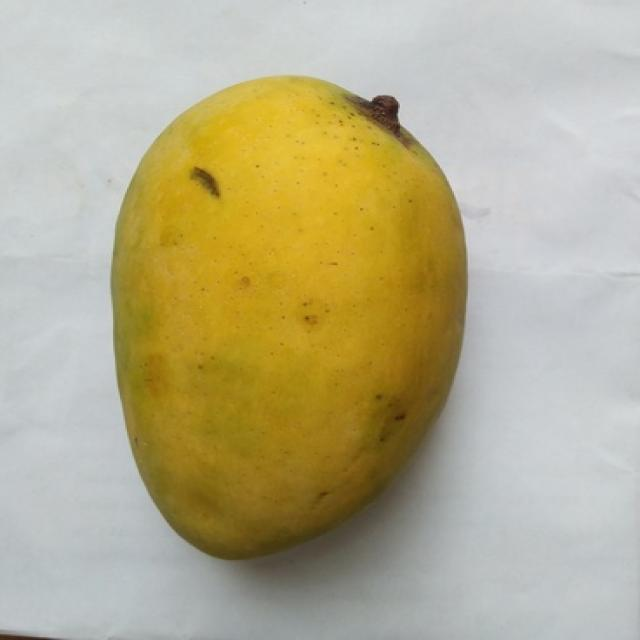Mango: (113, 77, 464, 557)
